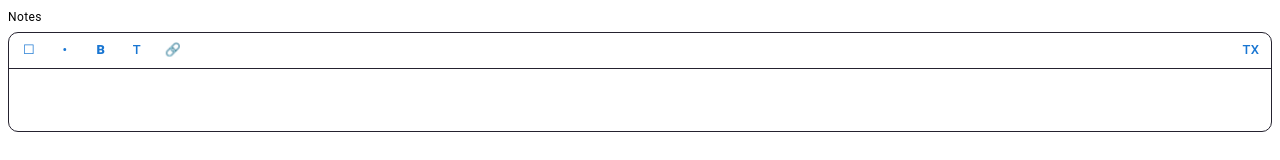
Test case: MarkdownEditor › Case à cocher inserts its mark
Step 1. Click the button named "Case à cocher" → point(29, 50), box [13,35,45,66]
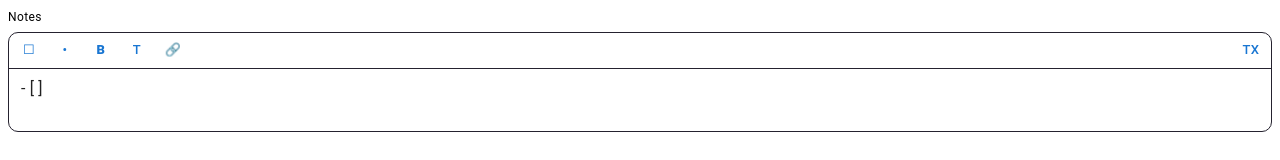
Check: the text box named "Notes" holds "- [ ] ", box [21,77,1259,123]
